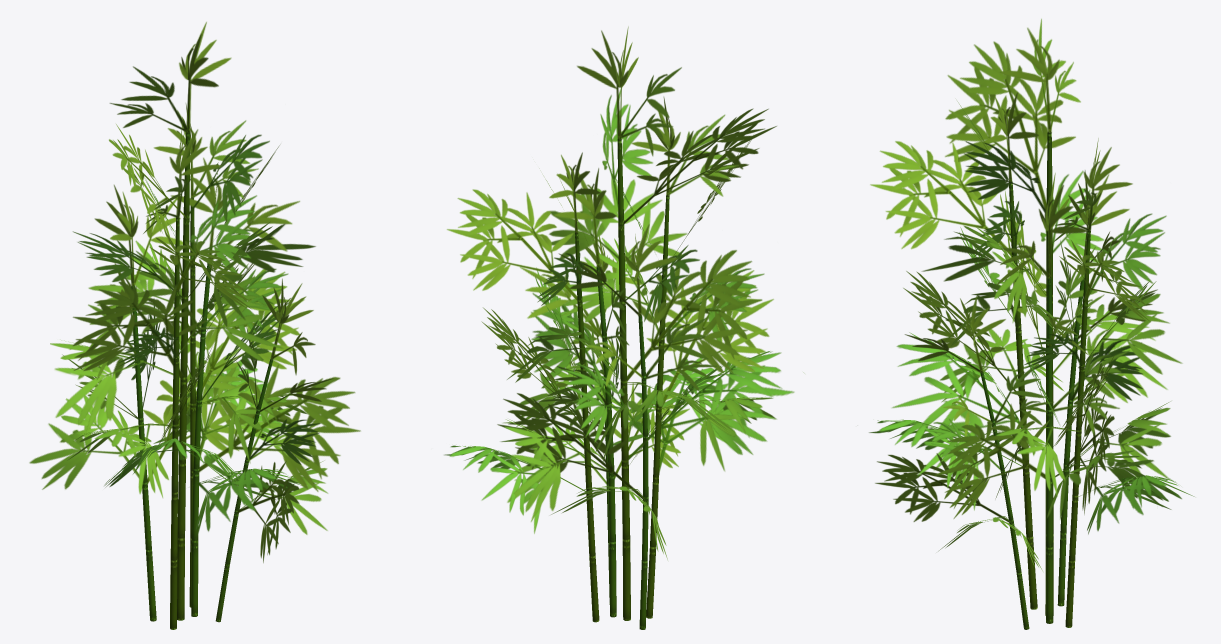
File: bamboo_bush.glb
The picture shows the model from 3 angles, left to right: view 1: azimuth 30°, elevation 25°; view 2: azimuth 150°, elevation 25°; view 3: azimuth 270°, elevation 25°; orthographic projection.
Visible parts, largest first — view 1: body; view 2: body; view 3: body.
Boxes of the visible parts, <box> form: body: <box>29,22,360,629</box>; body: <box>444,26,803,629</box>; body: <box>869,18,1194,629</box>.
Bounding box in the file's own units: 1.65 × 3 × 1.67.
1 material, 1 textured.
